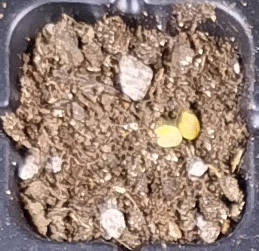chilli seed: (157, 124, 182, 147), (180, 111, 200, 139)
